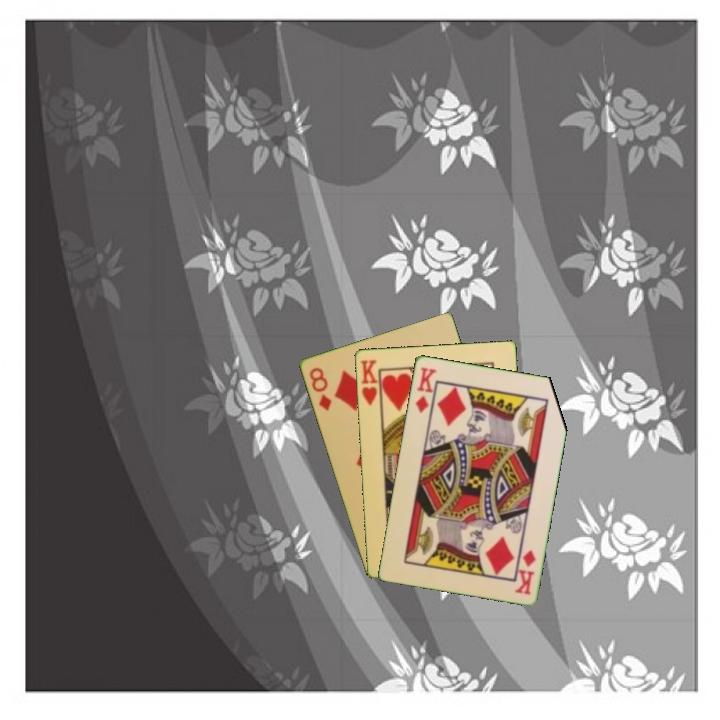8d: (305, 364, 334, 413)
Kd: (411, 363, 439, 415), (512, 546, 539, 597)
Kh: (357, 356, 383, 410)
